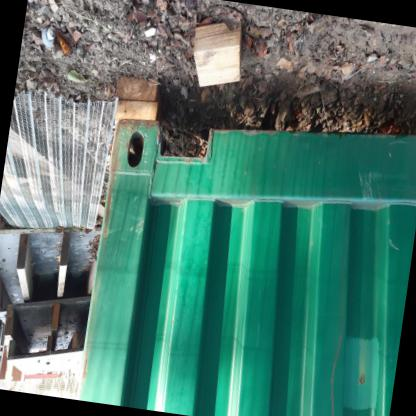CornerCasting: (102, 110, 166, 187)
